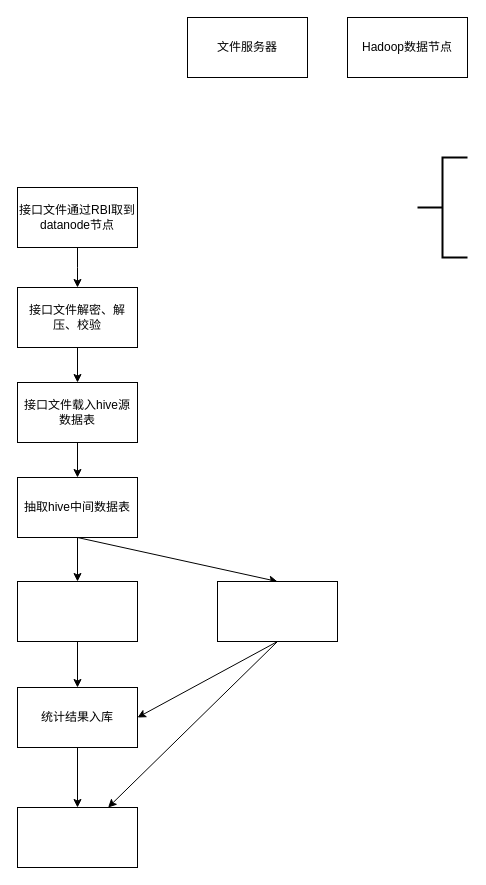
The diagram is 486 pixels wide and 885 high, and some of its shapes have lost their labels. The shapes that lost their labels are listed below. From the top down, each one's centre as x and y in pixels, then its label:
At point 77,611: "执行hiveQL进行统计".
At point 277,611: "Kylin构建Cube".
At point 77,837: "前台查询".
